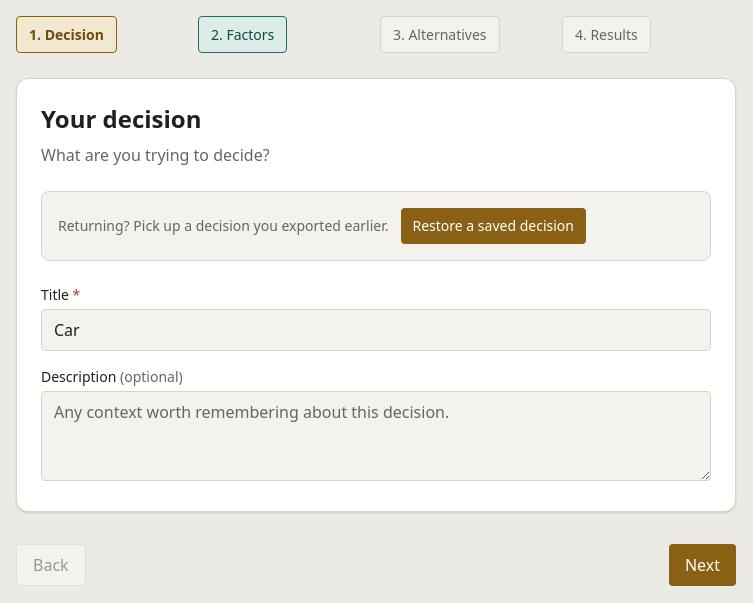
Scenario: WizardLayout — Back/Next navigation › Next advances to the following step
The width and height of the screenshot is (753, 603).
Click the button "Next" at [702, 565], box [669,544,736,586]
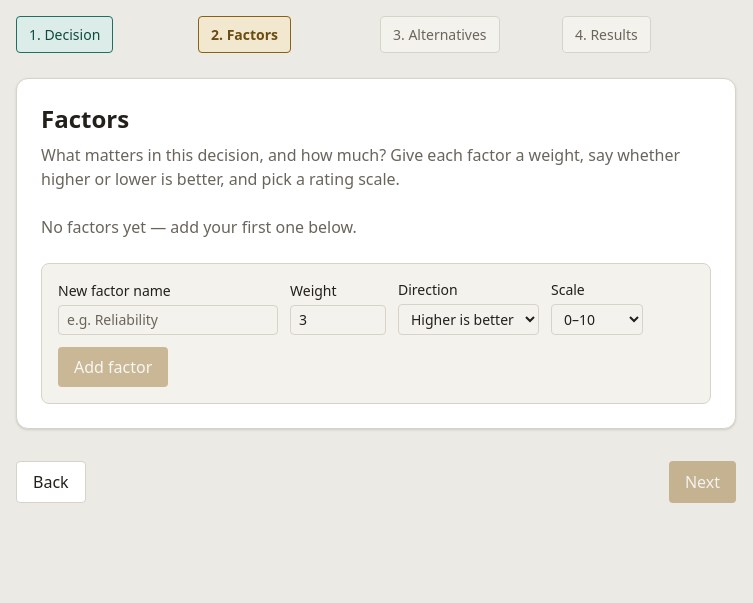
Result: the element with test id "step-factors" is shown at [41,103,711,404]
